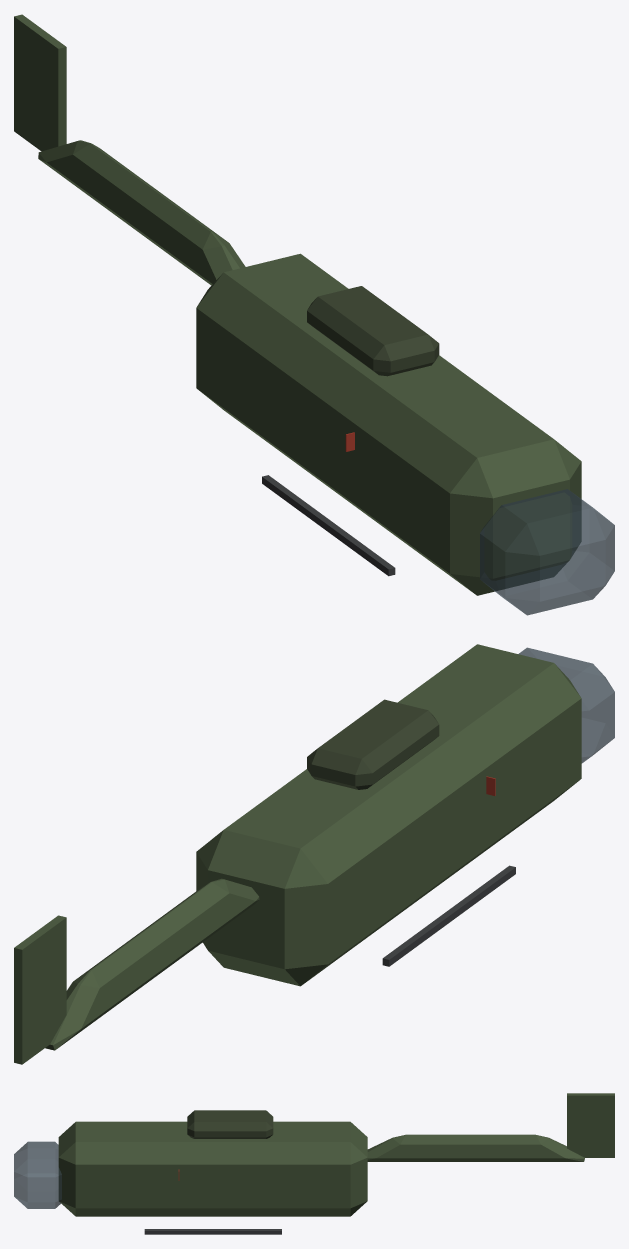
The model's file is helicopter_body.glb.
The picture shows the model from 3 angles, top to bottom: view 1: azimuth 30°, elevation 25°; view 2: azimuth 150°, elevation 25°; view 3: azimuth 270°, elevation 25°; orthographic projection. The views are drawn at different scales.
Visible parts, largest first — view 1: Body; view 2: Body; view 3: Body.
Boxes of the visible parts, <box> form: Body: <box>14,14,614,615</box>; Body: <box>14,644,614,1064</box>; Body: <box>14,1093,614,1234</box>.
Size of the model in its own units: 2.72 by 3.96 by 17.5.
